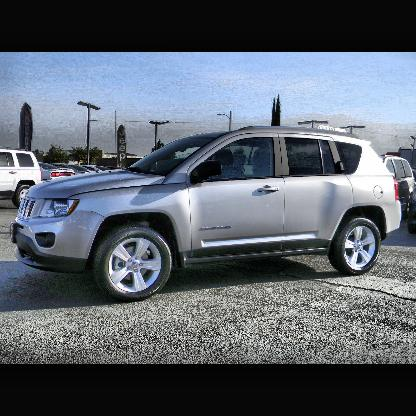Jeep Compass SUV 2012: (12, 127, 403, 304)
